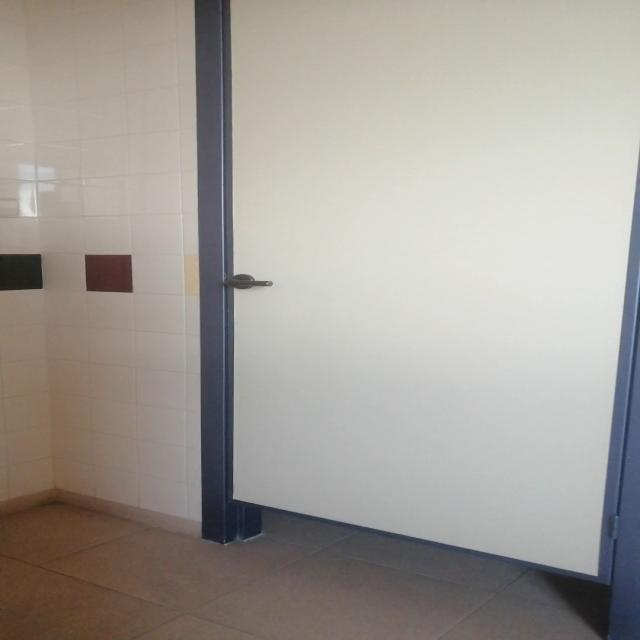door_handle: (221, 279, 274, 288)
